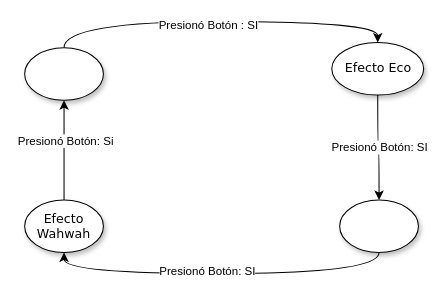
The diagram is 448 pixels wide and 295 high, and some of its shapes have lost their labels. The centre of each missing label's shape, as x and y in pixels:
Efecto Fuzz: the point at 379,227
Efecto Loopback: the point at 64,75
